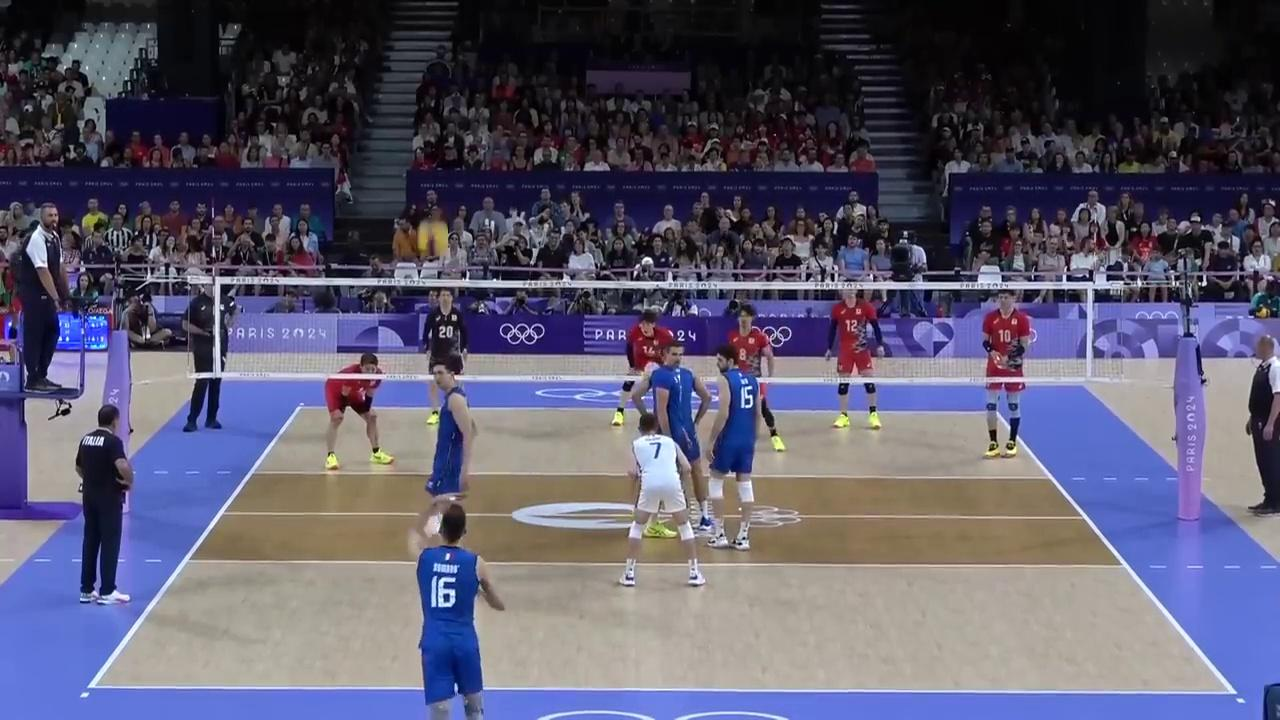ball: (421, 227, 448, 255)
